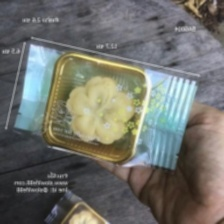snack: (7, 37, 208, 178)
